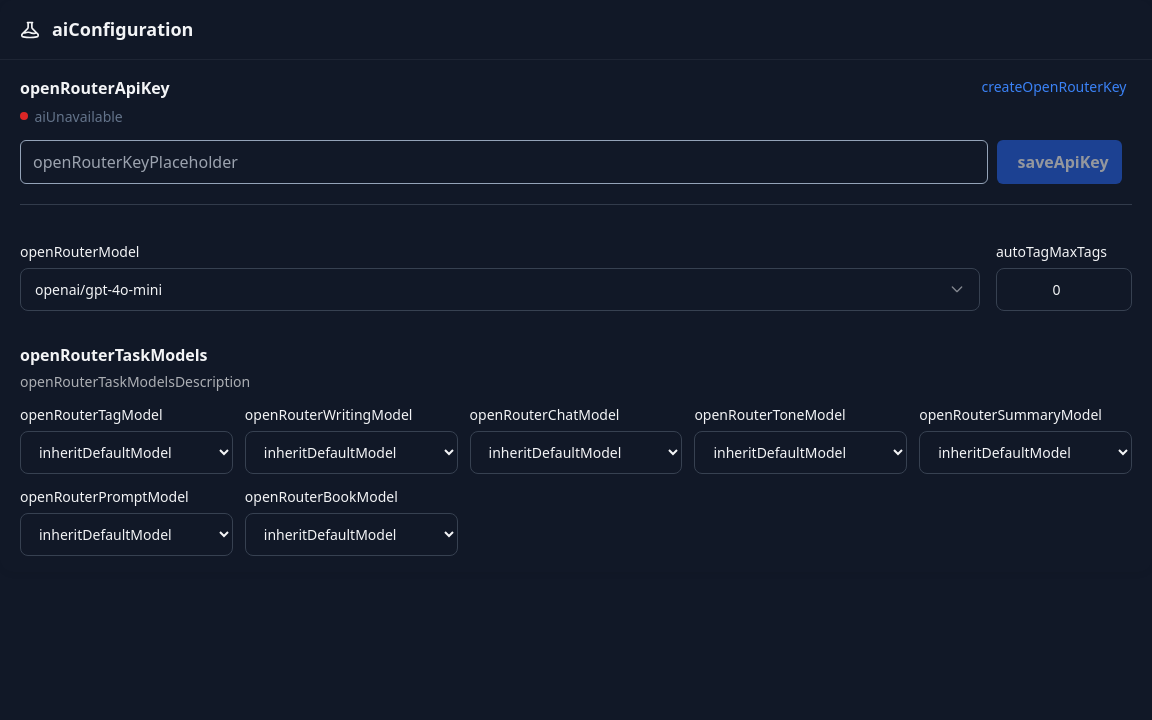
Scenario: AISection › shows no models found when search has no results
This screenshot has width=1152, height=720.
Expected: the text "openai/gpt-4o-mini" is shown, [35,280,162,299]
Click the button "openai/gpt-4o-mini". click: point(99, 289)
box: [20,268,980,311]
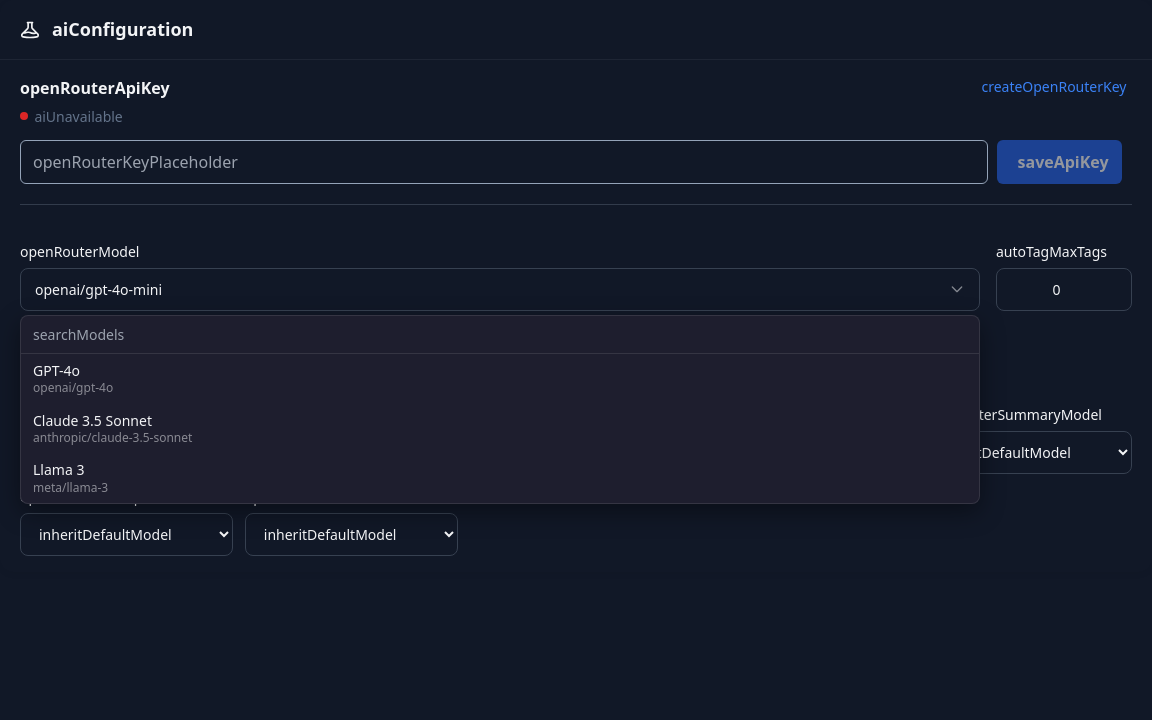
Type "nonexistent-model" into the field with placeholder "searchModels". click: point(500, 335)
box: [21,316,979,354]
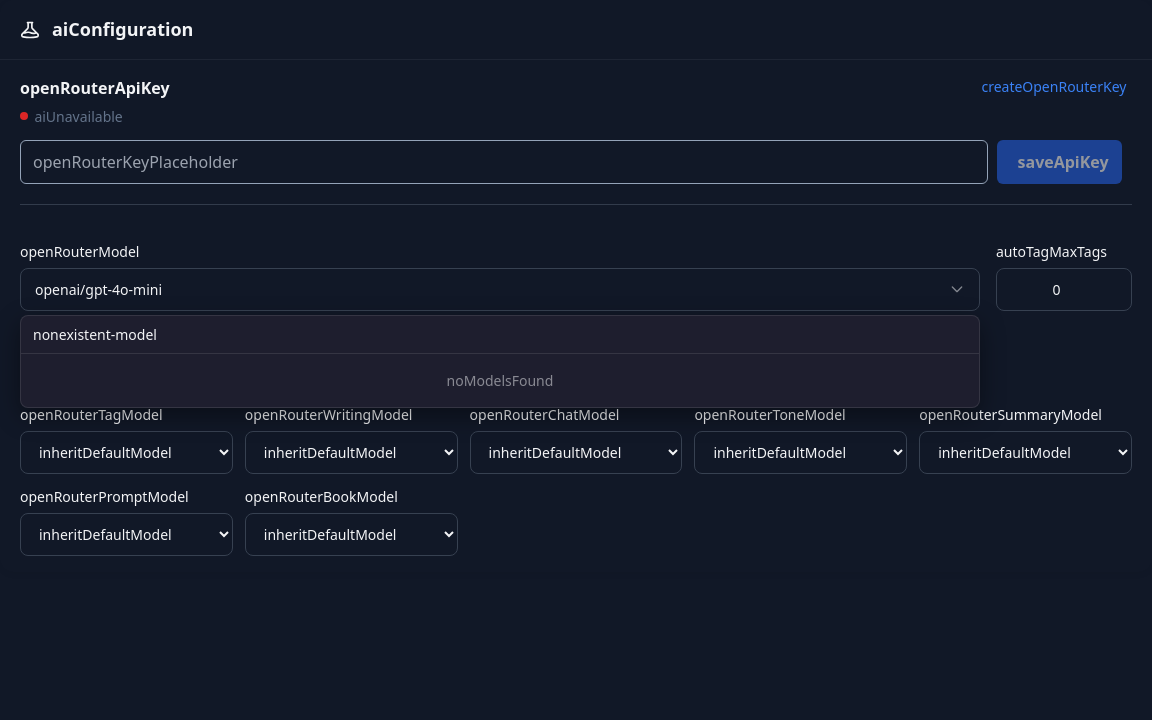
Expected: the text "noModelsFound" is shown, [447,371,553,390]
